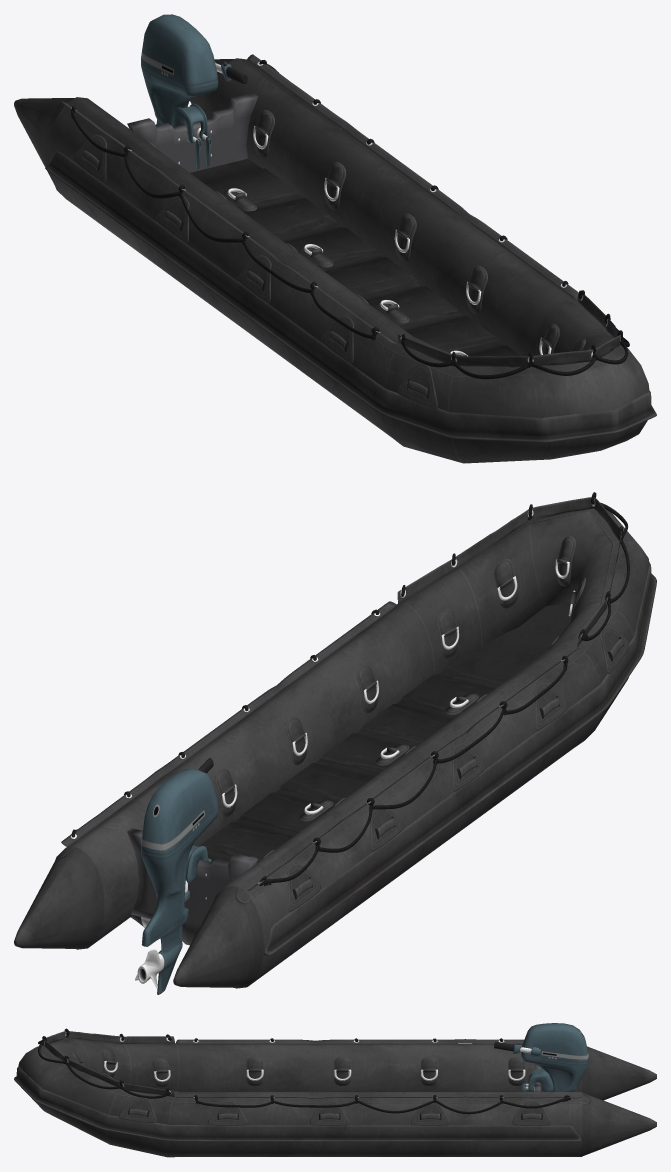
Rendered from horizon-rib.glb.
3 views of the same model, one above another, from view 1: azimuth 30°, elevation 25°; view 2: azimuth 150°, elevation 25°; view 3: azimuth 270°, elevation 25° (orthographic). The views are drawn at different scales.
Visible parts, largest first — view 1: Cylinder.039, Cylinder.040, Cylinder.050, Cylinder.043, Cylinder.046, Cylinder.049; view 2: Cylinder.039, Cylinder.040, Cylinder.050, Cylinder.043, Cylinder.046, Cylinder.049, Cylinder.053; view 3: Cylinder.039, Cylinder.040, Cylinder.050, Cylinder.043, Cylinder.049.
Part boxes in pixels (box(x1,y1,x2,y2)): Cylinder.039: box(14, 54, 656, 463); Cylinder.040: box(141, 14, 247, 168); Cylinder.050: box(74, 135, 437, 409); Cylinder.043: box(144, 110, 585, 354); Cylinder.046: box(223, 188, 467, 356); Cylinder.049: box(71, 60, 623, 367); Cylinder.039: box(14, 497, 656, 988); Cylinder.040: box(135, 758, 218, 994); Cylinder.050: box(287, 626, 629, 911); Cylinder.043: box(215, 559, 585, 858); Cylinder.046: box(247, 693, 478, 858); Cylinder.049: box(71, 504, 623, 886); Cylinder.053: box(555, 536, 575, 586); Cylinder.039: box(14, 1031, 656, 1157); Cylinder.040: box(494, 1023, 588, 1091); Cylinder.050: box(118, 1097, 551, 1125); Cylinder.043: box(101, 1049, 525, 1086); Cylinder.049: box(63, 1028, 570, 1103).
Bounding box in the file's own units: 3 × 2.56 × 12.
Materials: 1 (1 with a texture image).
